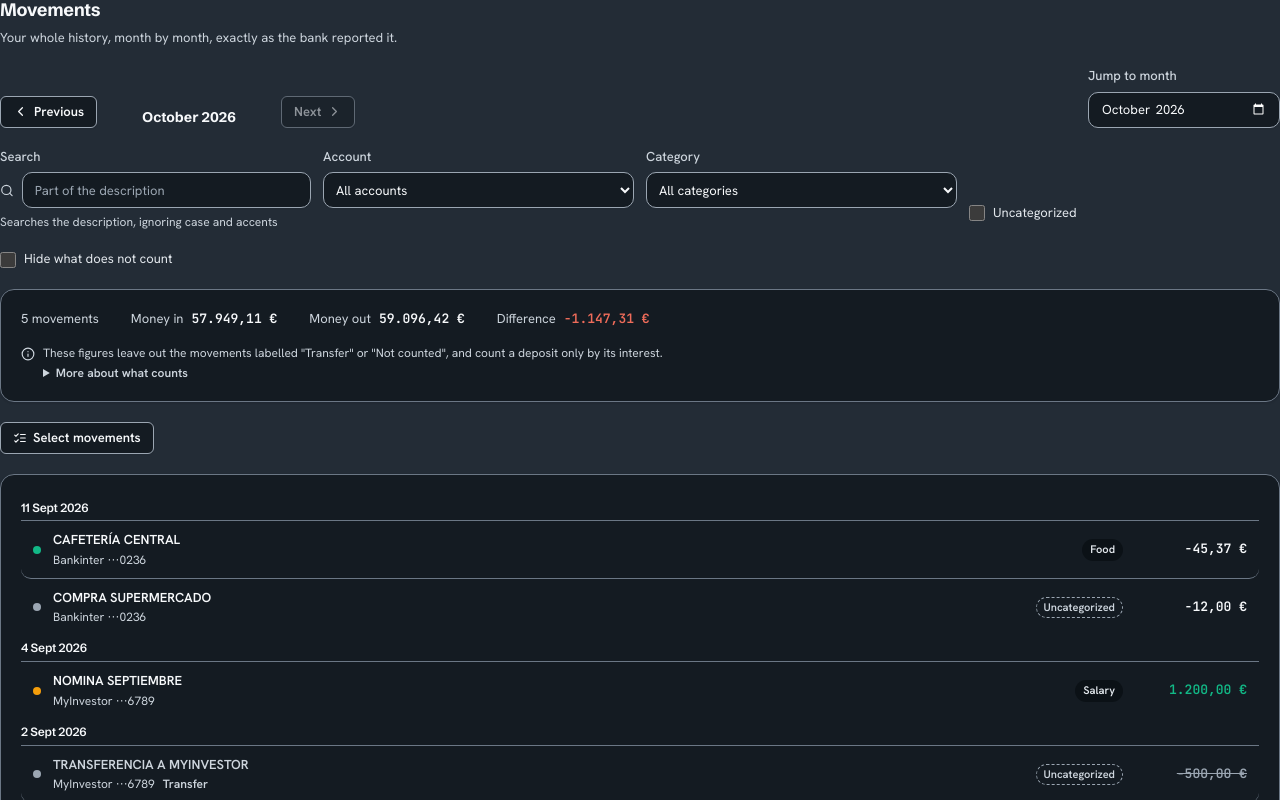
Test: StatementView › writes the month in the URL and loads it from there (R2, R3)
Click the button with test id "statement-prev" at (49, 112), box x1=0 y1=96 x2=97 y2=128
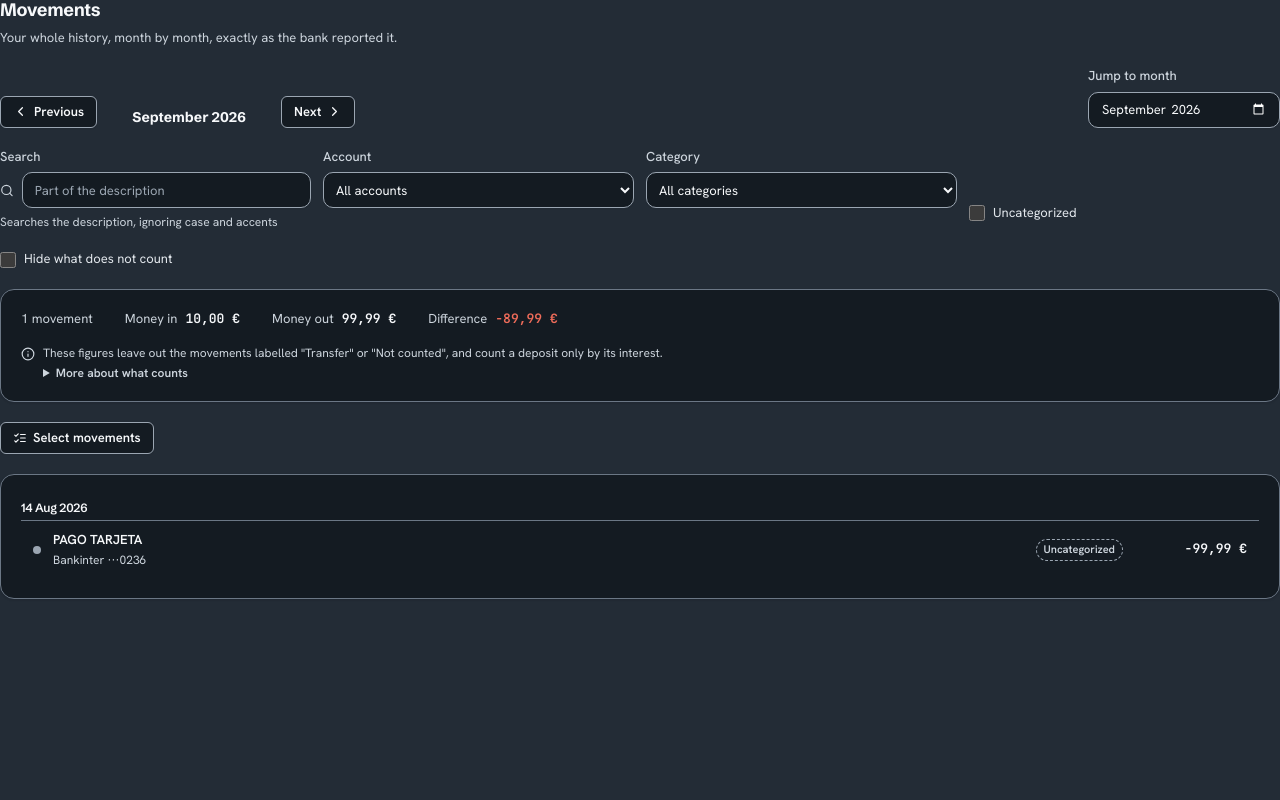
Expected: the text with test id "statement-month-label" reads "September 2026", x1=132 y1=108 x2=246 y2=126
